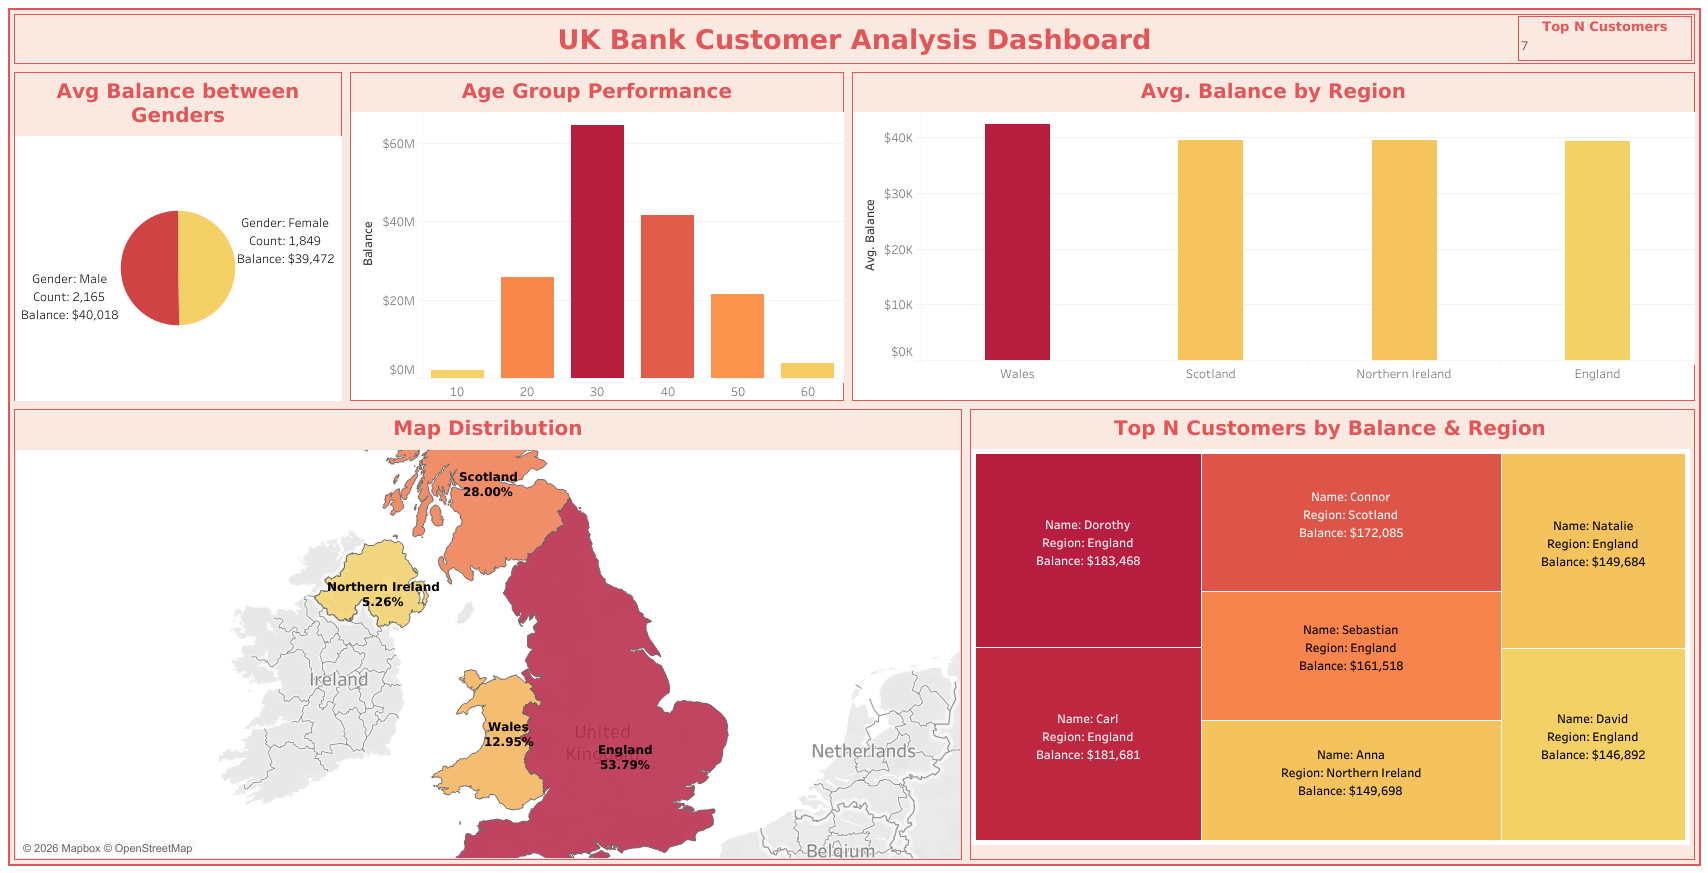

The dashboard page shown, as its layout file describes it:
{"tool":"tableau","page":{"name":"Dashboard 1","canvas":[1000,1000],"units":"permille","ordinal":0},"visuals":[{"type":"text","box":[5.9,11.4,988.3,66.4]},{"type":"parameter","param":"[Parameters].[Parameter 1]","box":[888.1,17.2,101.7,54.9]},{"type":"worksheet","title":"Avg Balance between Genders","mark":"Pie","box":[5.9,77.8,196.6,385.6]},{"type":"worksheet","title":"Age Group Performance","mark":"Bar","rows":["Balance"],"cols":["Age (bin)"],"box":[202.5,77.8,293.7,385.6]},{"type":"worksheet","title":"Avg. Balance by Region","mark":"Automatic","rows":["Balance"],"cols":["Region"],"box":[496.2,77.8,497.9,385.6]},{"type":"worksheet","title":"Map Distribution","mark":"Multipolygon","box":[5.9,463.4,559.4,525.2]},{"type":"worksheet","title":"Top N Customers by Balance & Region","mark":"Square","box":[565.2,463.4,428.9,525.2]}]}

Visuals, with their boxes on the dashboard's canvas, which has no fixed pixel size, in thousandths of its width and height (x1, y1, x2, y2). These are canvas units, not pixel positions in the 1708x873 screenshot, which may show the page scaled, cropped or inside an application window:
text: l=6, t=11, r=994, b=78
parameter: l=888, t=17, r=990, b=72
"Avg Balance between Genders" worksheet (Pie marks): l=6, t=78, r=202, b=463
"Age Group Performance" worksheet (Bar marks): l=202, t=78, r=496, b=463
"Avg. Balance by Region" worksheet: l=496, t=78, r=994, b=463
"Map Distribution" worksheet (Multipolygon marks): l=6, t=463, r=565, b=989
"Top N Customers by Balance & Region" worksheet (Square marks): l=565, t=463, r=994, b=989
